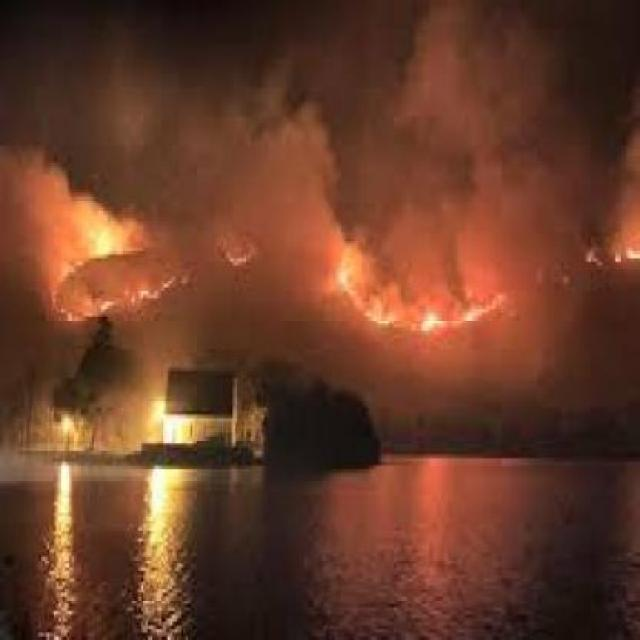Fire: (318, 241, 542, 379), (2, 206, 194, 328)
Smoke: (0, 1, 640, 228)
